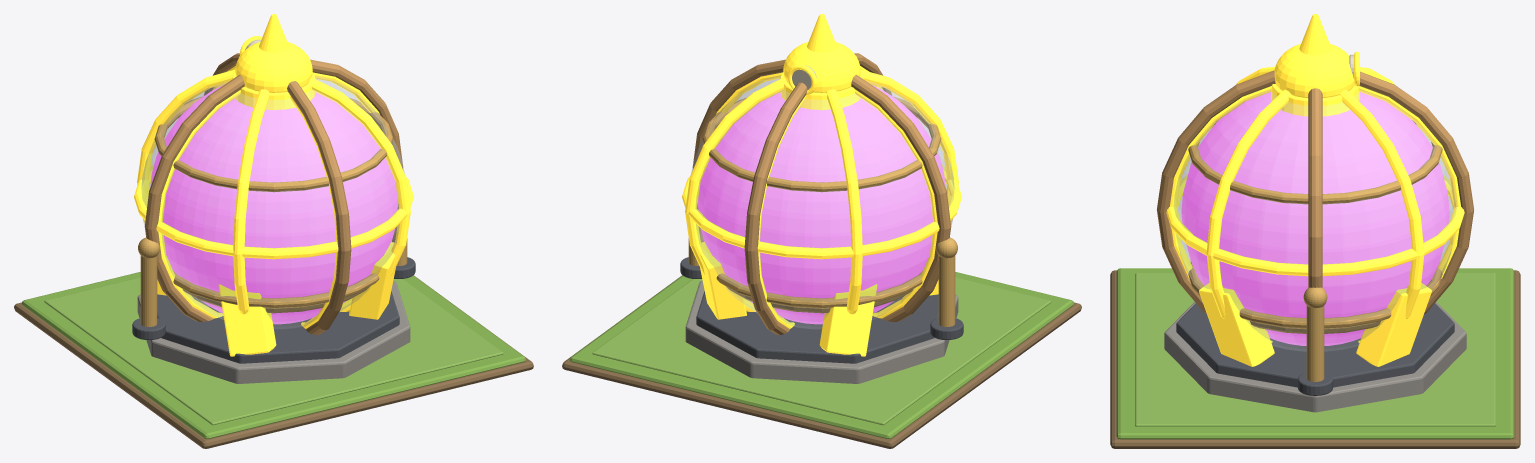
The model's file is elixir_storage_lv5.glb.
The picture shows the model from 3 angles, left to right: view 1: azimuth 30°, elevation 25°; view 2: azimuth 150°, elevation 25°; view 3: azimuth 270°, elevation 25°; orthographic projection. The views are drawn at different scales.
Visible parts, largest first — view 1: GlassOrb, ElixirCore, Base_Inner, Base_Grass, OctagonalReinforcedBase, StandPlinth, Base_Dirt, GoldenRib_1, ES_ArmorRib_1, EquatorialBrassBand, ES_ArmorRib_2, ES_ArmorRib_0 (+14 smaller); view 2: GlassOrb, ElixirCore, Base_Inner, Base_Grass, OctagonalReinforcedBase, StandPlinth, Base_Dirt, GoldenRib_0, ES_ArmorRib_0, EquatorialBrassBand, ES_ArmorRib_1, UpperTropicsBand (+14 smaller); view 3: GlassOrb, ElixirCore, Base_Inner, Base_Grass, OctagonalReinforcedBase, StandPlinth, Base_Dirt, ES_ArmorRib_1, EquatorialBrassBand, ES_ArmorRib_3, TopPressureDome, GoldenRib_0 (+14 smaller).
Part boxes in pixels (bbox=[...]): GlassOrb: bbox=[141, 76, 404, 328]; ElixirCore: bbox=[150, 84, 398, 324]; Base_Inner: bbox=[44, 277, 503, 425]; Base_Grass: bbox=[22, 272, 525, 438]; OctagonalReinforcedBase: bbox=[157, 291, 399, 363]; StandPlinth: bbox=[137, 280, 410, 383]; Base_Dirt: bbox=[14, 275, 533, 448]; GoldenRib_1: bbox=[137, 69, 410, 311]; ES_ArmorRib_1: bbox=[206, 56, 351, 331]; EquatorialBrassBand: bbox=[134, 165, 413, 259]; ES_ArmorRib_2: bbox=[148, 59, 383, 321]; ES_ArmorRib_0: bbox=[144, 63, 402, 318]; GlassOrb: bbox=[691, 76, 954, 328]; ElixirCore: bbox=[697, 84, 945, 324]; Base_Inner: bbox=[592, 277, 1051, 425]; Base_Grass: bbox=[570, 272, 1073, 438]; OctagonalReinforcedBase: bbox=[696, 291, 938, 363]; StandPlinth: bbox=[685, 280, 958, 383]; Base_Dirt: bbox=[562, 275, 1081, 448]; GoldenRib_0: bbox=[685, 69, 958, 311]; ES_ArmorRib_0: bbox=[700, 62, 951, 321]; EquatorialBrassBand: bbox=[682, 165, 961, 259]; ES_ArmorRib_1: bbox=[744, 53, 890, 334]; UpperTropicsBand: bbox=[702, 96, 941, 192]; GlassOrb: bbox=[1174, 90, 1456, 351]; ElixirCore: bbox=[1181, 92, 1449, 345]; Base_Inner: bbox=[1135, 273, 1495, 426]; Base_Grass: bbox=[1116, 268, 1514, 439]; OctagonalReinforcedBase: bbox=[1176, 303, 1454, 387]; StandPlinth: bbox=[1164, 302, 1466, 412]; Base_Dirt: bbox=[1110, 270, 1520, 448]; ES_ArmorRib_1: bbox=[1157, 70, 1473, 314]; EquatorialBrassBand: bbox=[1166, 174, 1464, 276]; ES_ArmorRib_3: bbox=[1157, 71, 1473, 314]; TopPressureDome: bbox=[1274, 44, 1354, 97]; GoldenRib_0: bbox=[1212, 66, 1424, 342].
Bounding box in the file's own units: 2.76 × 2.59 × 2.76.
